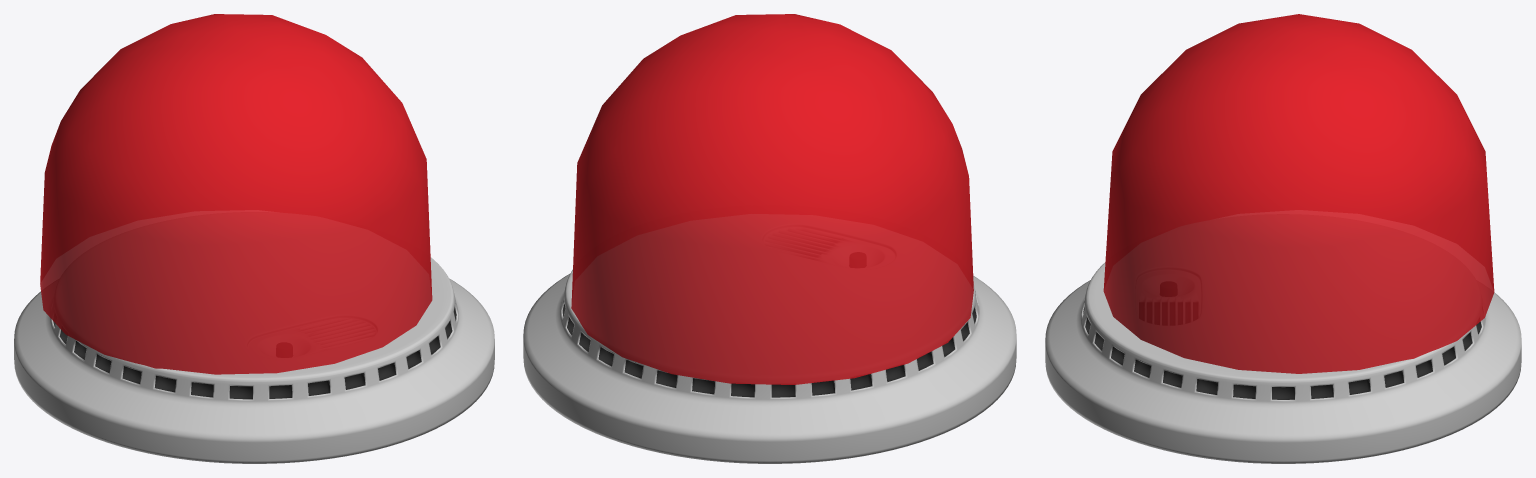
The model's file is baojingqi 1.FBX.
The picture shows the model from 3 angles, left to right: view 1: azimuth 30°, elevation 25°; view 2: azimuth 150°, elevation 25°; view 3: azimuth 270°, elevation 25°; orthographic projection. The views are drawn at different scales.
Visible parts, largest first — view 1: baojingqi001, baojijngqi01; view 2: baojingqi001, baojijngqi01; view 3: baojingqi001, baojijngqi01.
Boxes of the visible parts, x1,y1,x2,y2 form: baojingqi001: [40, 14, 432, 374]; baojijngqi01: [14, 257, 494, 463]; baojingqi001: [571, 14, 973, 384]; baojijngqi01: [523, 269, 1016, 463]; baojingqi001: [1103, 14, 1494, 373]; baojijngqi01: [1045, 262, 1521, 463].
Bounding box in the file's own units: 1579 × 1194 × 1579.
4 materials, 1 textured.
